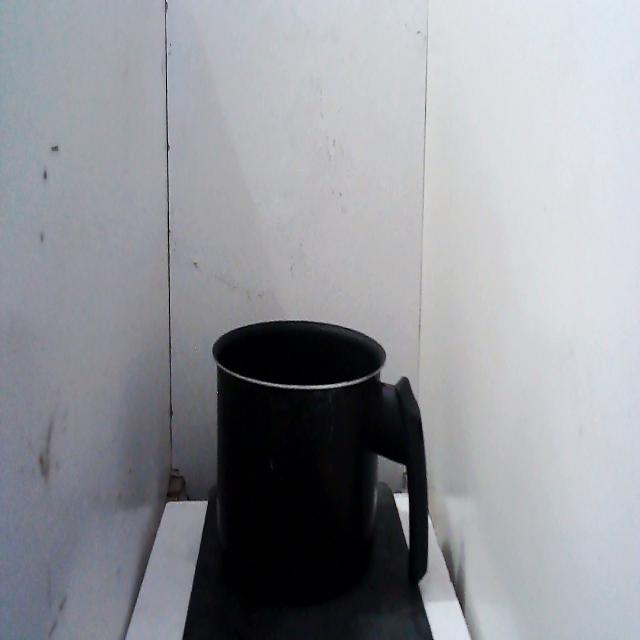metal: (202, 308, 434, 612)
